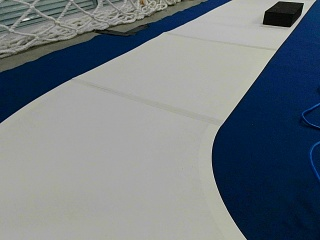block: (263, 1, 303, 26)
